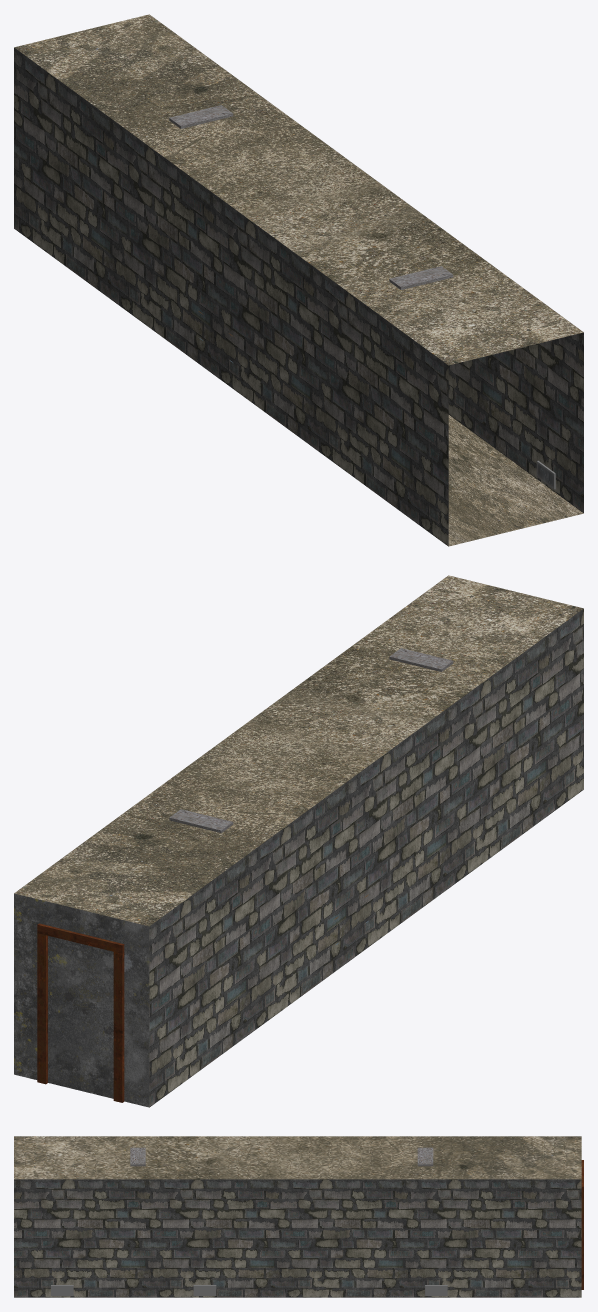
Rendered from Spooky Hallway.obj.
The picture shows the model from 3 angles, top to bottom: view 1: azimuth 30°, elevation 25°; view 2: azimuth 150°, elevation 25°; view 3: azimuth 270°, elevation 25°; orthographic projection. The views are drawn at different scales.
Visible parts, largest first — view 1: Left Wall_Bake, Top_Bake, Right Wall_Bake, Floor_Bake, Light Stand_Bake, Light Stand 2_Bake; view 2: Left Wall_Bake, Top_Bake, Back Wall_Bake, Door Frame_Bake, Light Stand_Bake, Light Stand 2_Bake; view 3: Right Wall_Bake, Top_Bake, Door Frame_Bake, Light Stand_Bake, Light Stand 2_Bake, Vent_Bake.001, Vent_Bake, Vent_Bake.002.
Boxes of the visible parts, bbox=[...] form: Left Wall_Bake: bbox=[14, 47, 448, 546]; Top_Bake: bbox=[14, 14, 583, 365]; Right Wall_Bake: bbox=[448, 332, 583, 513]; Floor_Bake: bbox=[448, 415, 583, 546]; Light Stand_Bake: bbox=[169, 105, 233, 128]; Light Stand 2_Bake: bbox=[389, 266, 453, 289]; Left Wall_Bake: bbox=[149, 608, 583, 1107]; Top_Bake: bbox=[14, 575, 583, 926]; Back Wall_Bake: bbox=[14, 893, 149, 1107]; Door Frame_Bake: bbox=[37, 923, 124, 1102]; Light Stand_Bake: bbox=[169, 809, 233, 832]; Light Stand 2_Bake: bbox=[389, 648, 453, 671]; Right Wall_Bake: bbox=[14, 1179, 581, 1297]; Top_Bake: bbox=[14, 1136, 581, 1179]; Door Frame_Bake: bbox=[581, 1160, 583, 1289]; Light Stand_Bake: bbox=[417, 1147, 433, 1166]; Light Stand 2_Bake: bbox=[130, 1147, 145, 1166]; Vent_Bake.001: bbox=[193, 1285, 216, 1295]; Vent_Bake: bbox=[51, 1285, 73, 1295]; Vent_Bake.002: bbox=[425, 1285, 447, 1295].
Size of the model in its own units: 1.84 by 2.34 by 10.04.
